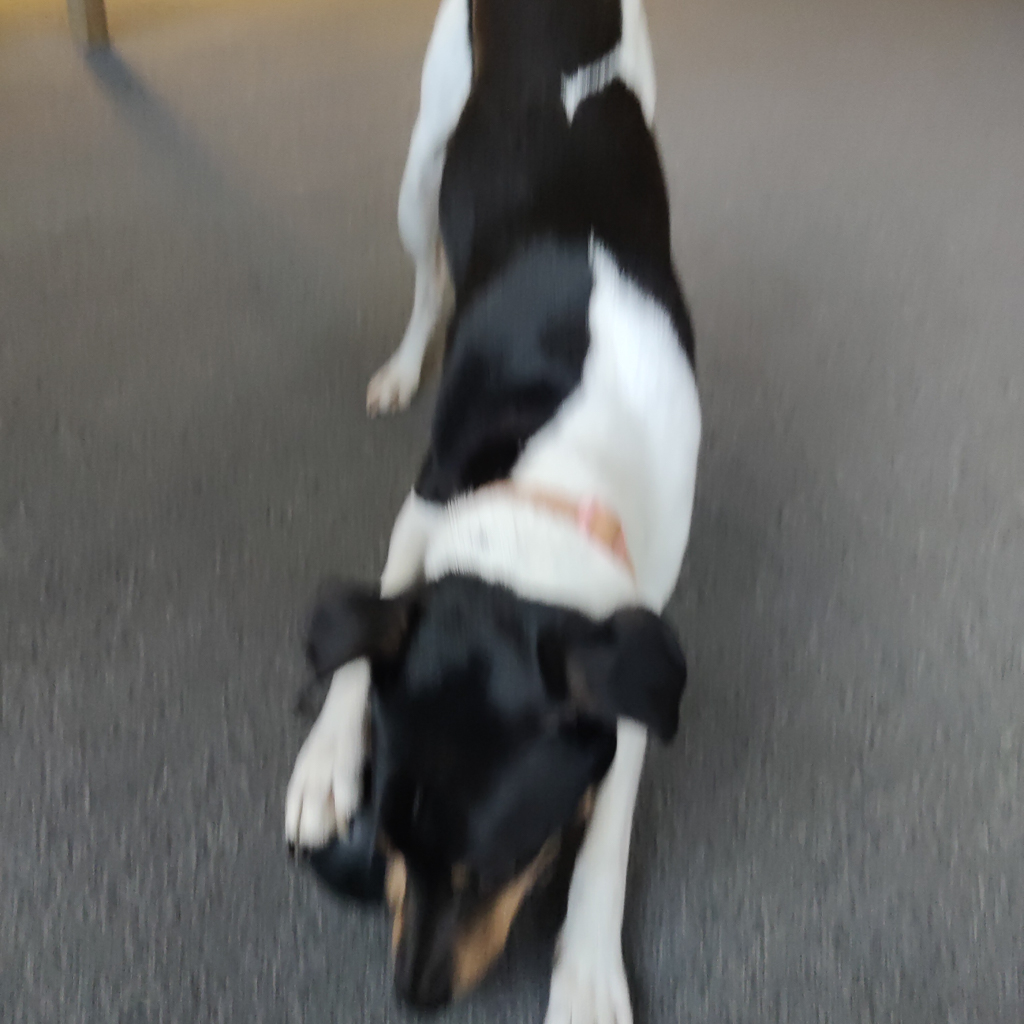Dog: (216, 0, 724, 1024)
